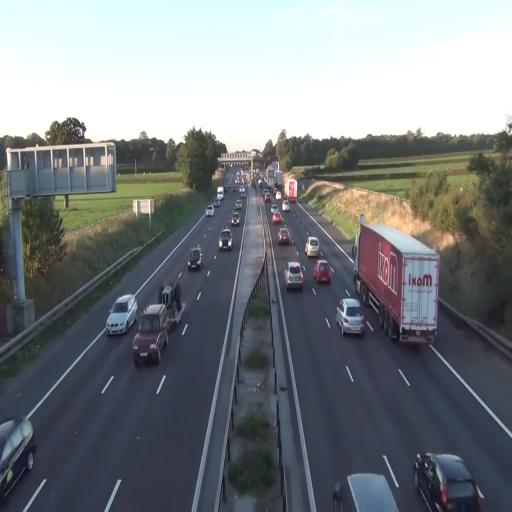vehicle: (352, 217, 440, 343), (414, 451, 485, 512), (332, 466, 400, 512), (0, 416, 35, 502), (132, 302, 170, 368), (105, 293, 137, 336), (336, 296, 366, 336), (285, 260, 305, 290), (313, 260, 333, 286), (187, 248, 203, 272), (304, 236, 320, 260), (218, 228, 232, 252), (277, 226, 291, 246)
